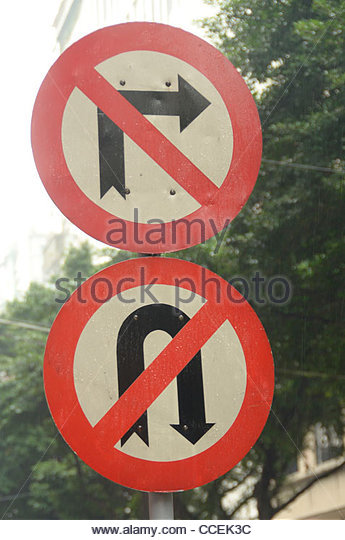No_u_turn: (43, 256, 273, 493)
